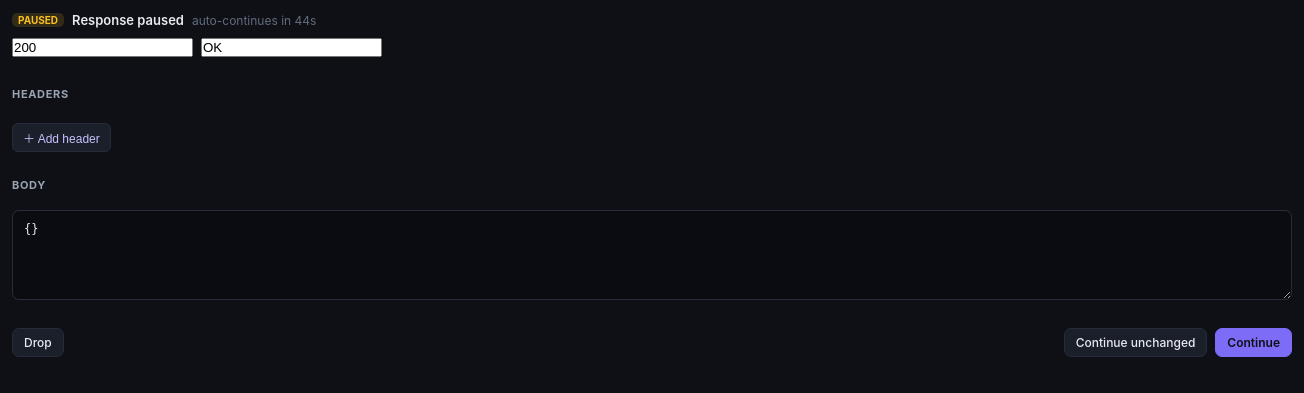
empty or out-of-range status shows an inline error and disables Continue
Clear the field named "status" at [102, 48], box [12, 38, 193, 57]
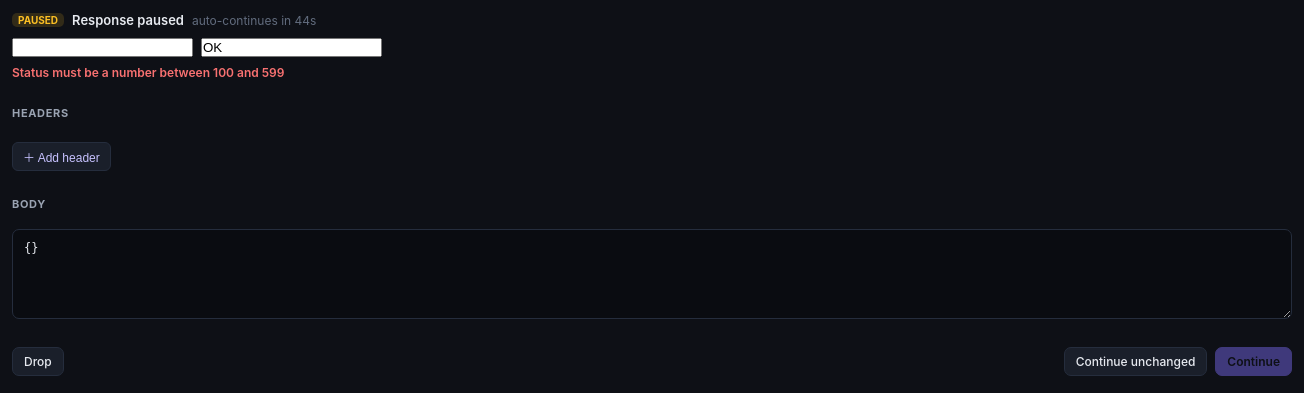
Expected: the text "Status must be a number between 100 and 599" is shown, [12, 65, 284, 80]
Expected: the button "Continue" is disabled, [1215, 347, 1292, 376]
Type "503" into the field named "status" at [102, 48], box [12, 38, 193, 57]
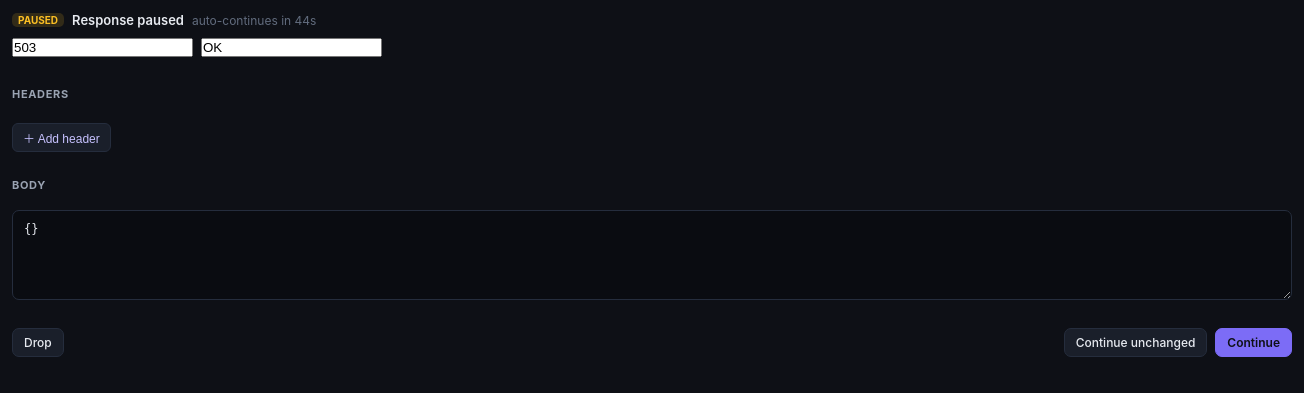
Expected: the text "Status must be a number between 100 and 599" is gone
Expected: the button "Continue" is enabled, [1215, 328, 1292, 357]
